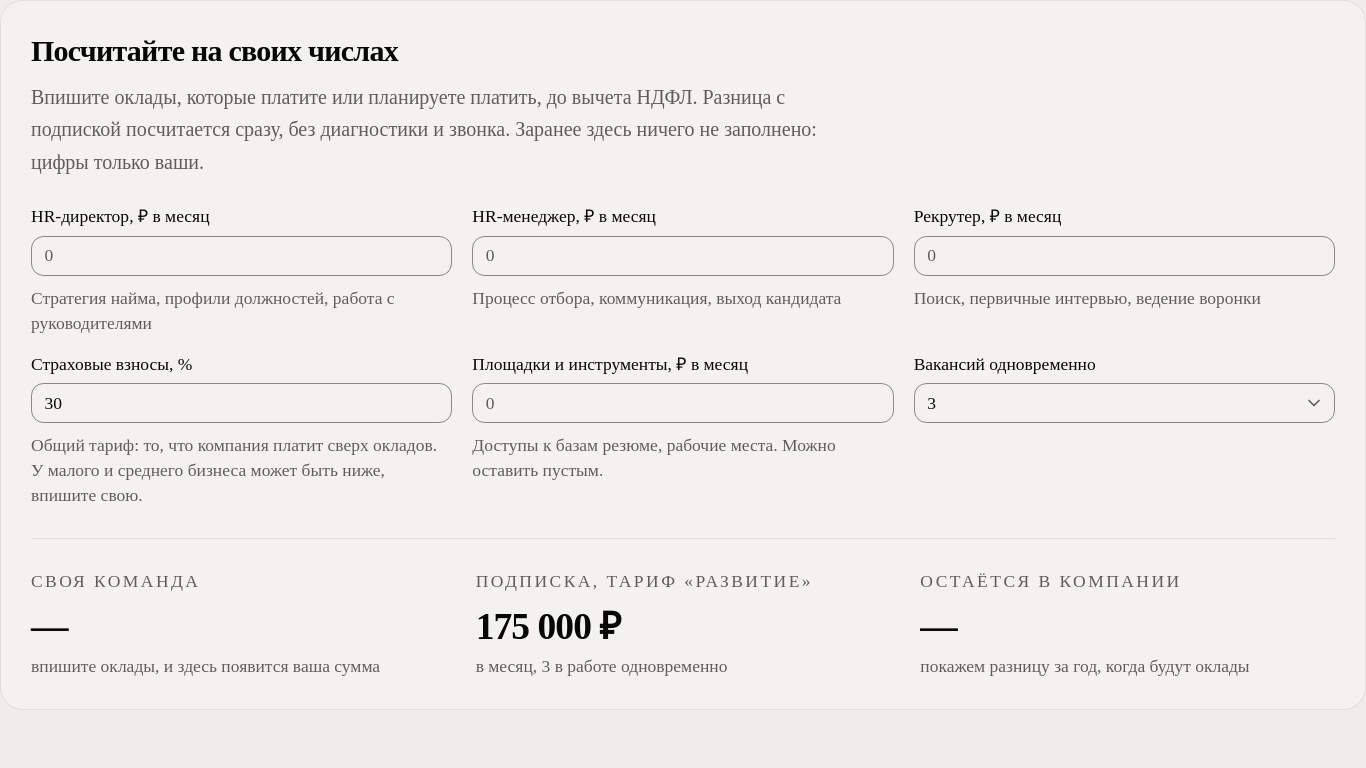
Test: CostCalculator › считает по введённым окладам: оклады, взносы и инструменты
This screenshot has width=1366, height=768.
Step 1. Type "200000" into the number field labelled "HR-директор, ₽ в месяц" → {"x": 242, "y": 256}, box [31,236,452,276]
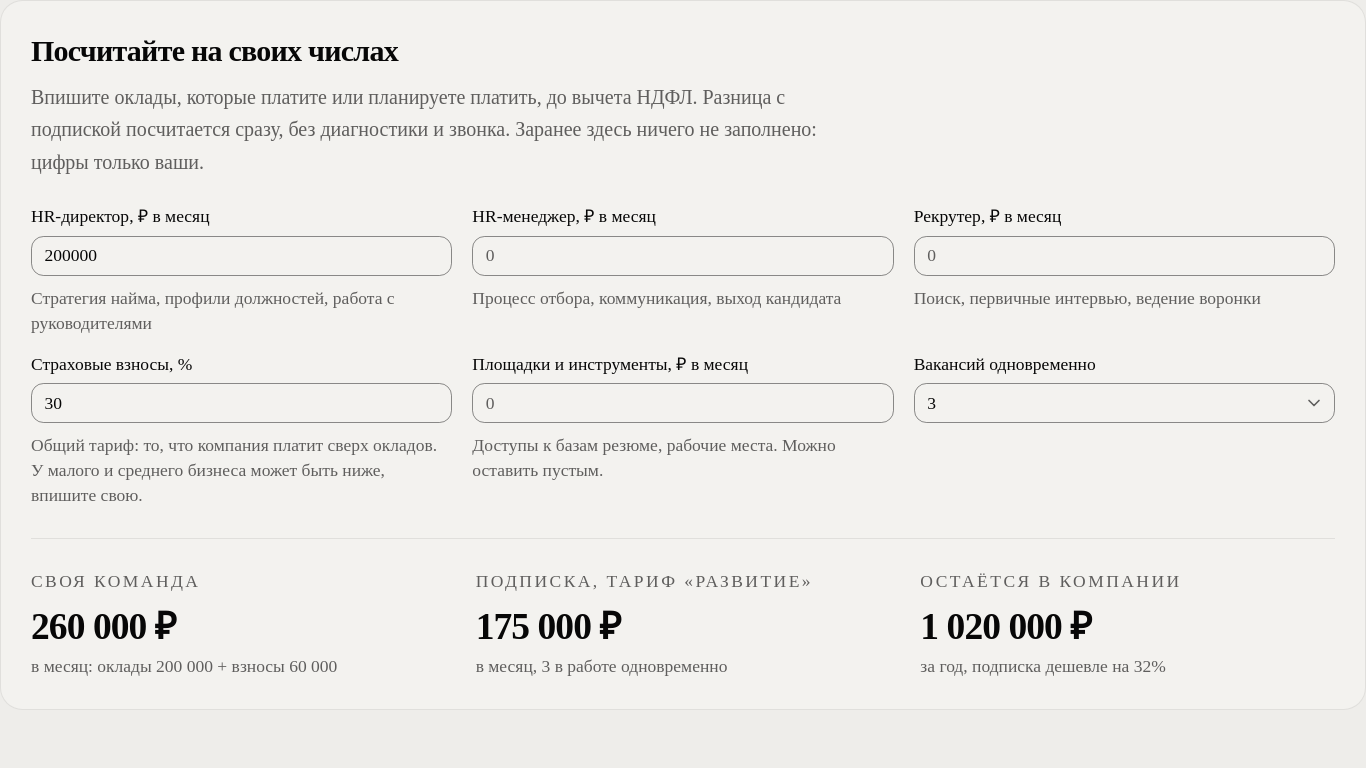
Step 2. Type "130000" into the number field labelled "HR-менеджер, ₽ в месяц" → {"x": 683, "y": 256}, box [472,236,894,276]
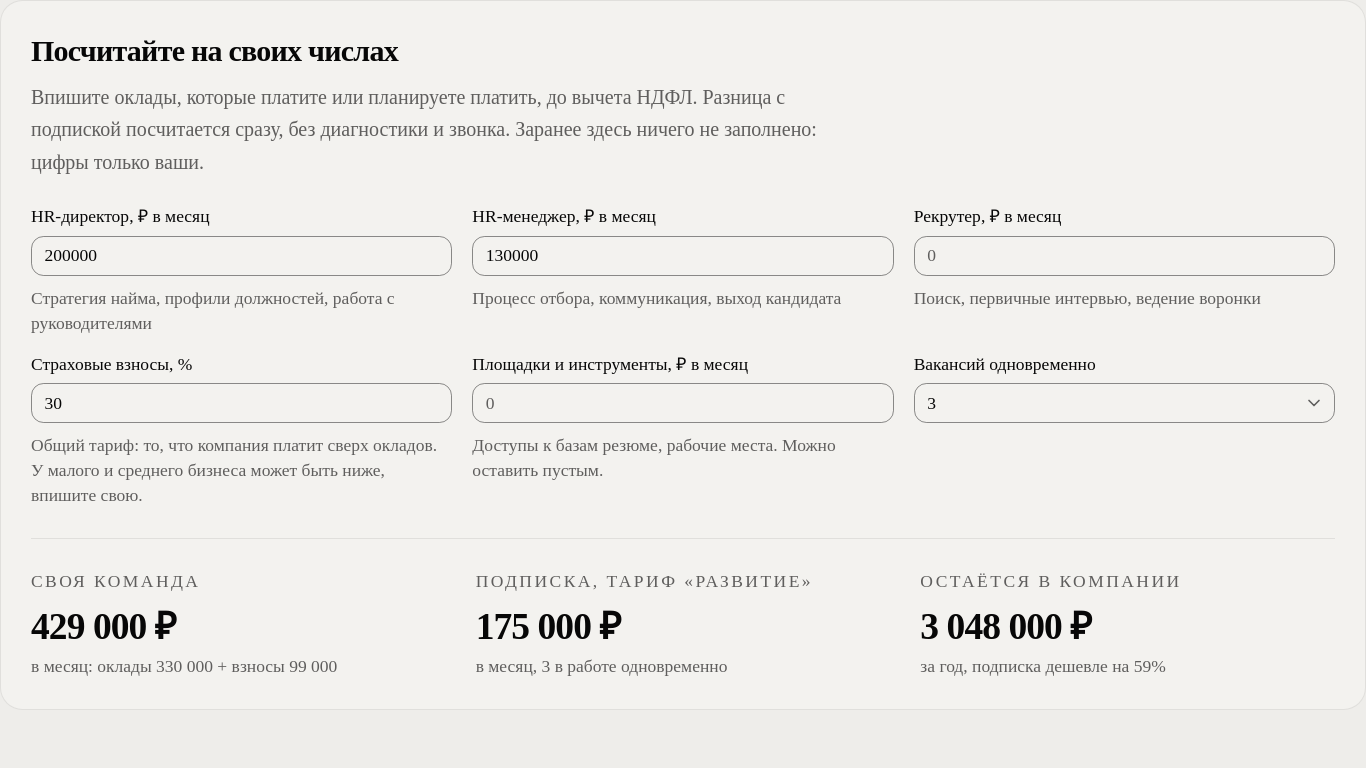
Step 3. Type "70000" into the number field labelled "Рекрутер, ₽ в месяц" → {"x": 1124, "y": 256}, box [914,236,1335,276]
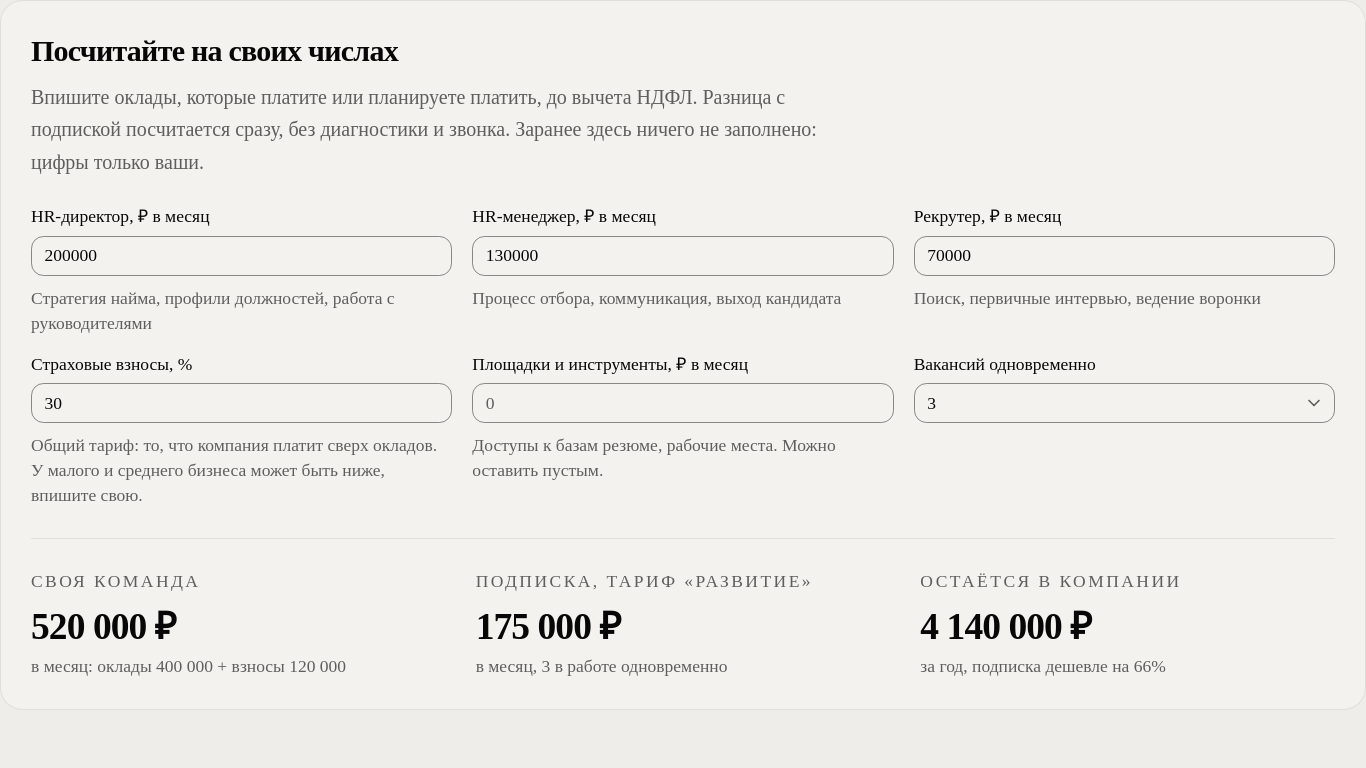
Step 4. Type "70000" into the number field labelled "Площадки и инструменты, ₽ в месяц" → {"x": 683, "y": 404}, box [472,384,894,424]
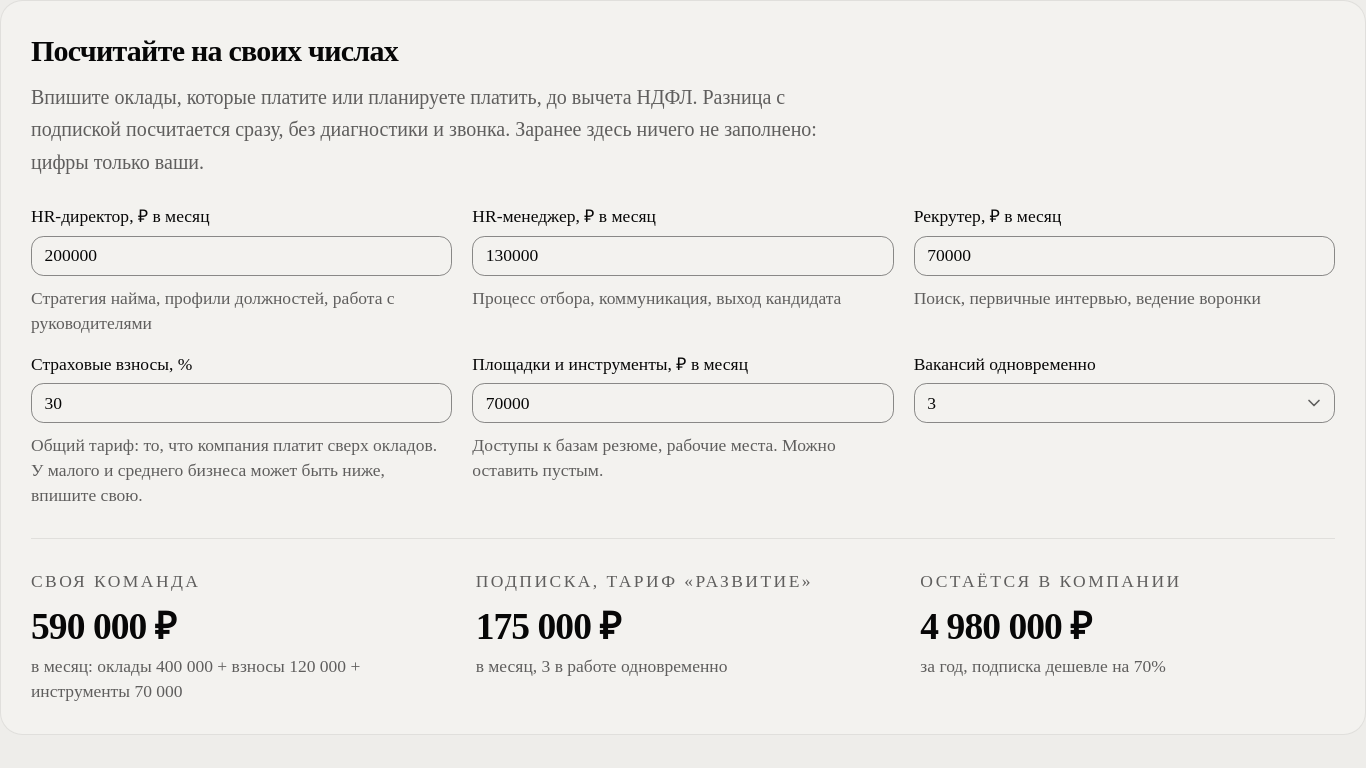
Expected: the element that starts with "Своя команда" shows "590 000 ₽", [31,606,176,648]
Expected: the element that starts with "Своя команда" shows "оклады 400 000 + взносы 120 000 + инструменты 70 000", [31,656,360,702]
Expected: the element that starts with "Своя команда" shows "4 980 000 ₽", [920,606,1091,648]
